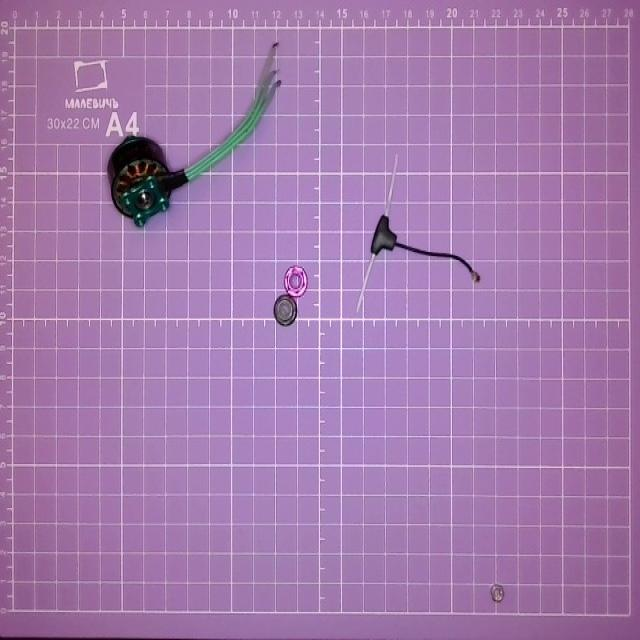antenna: (354, 160, 478, 301)
motor: (106, 40, 289, 227)
screw_M3: (488, 581, 514, 603)
screw_M5: (267, 293, 297, 332), (284, 261, 314, 299)
